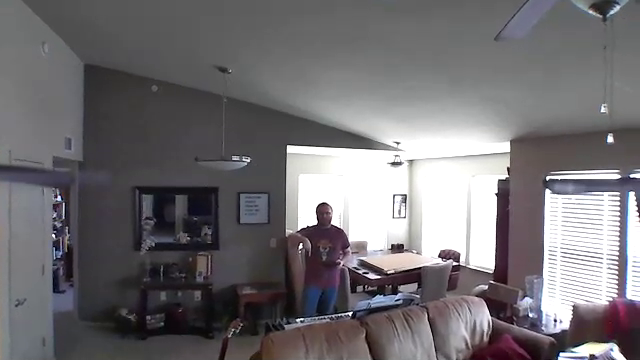down: (300, 235, 314, 258)
